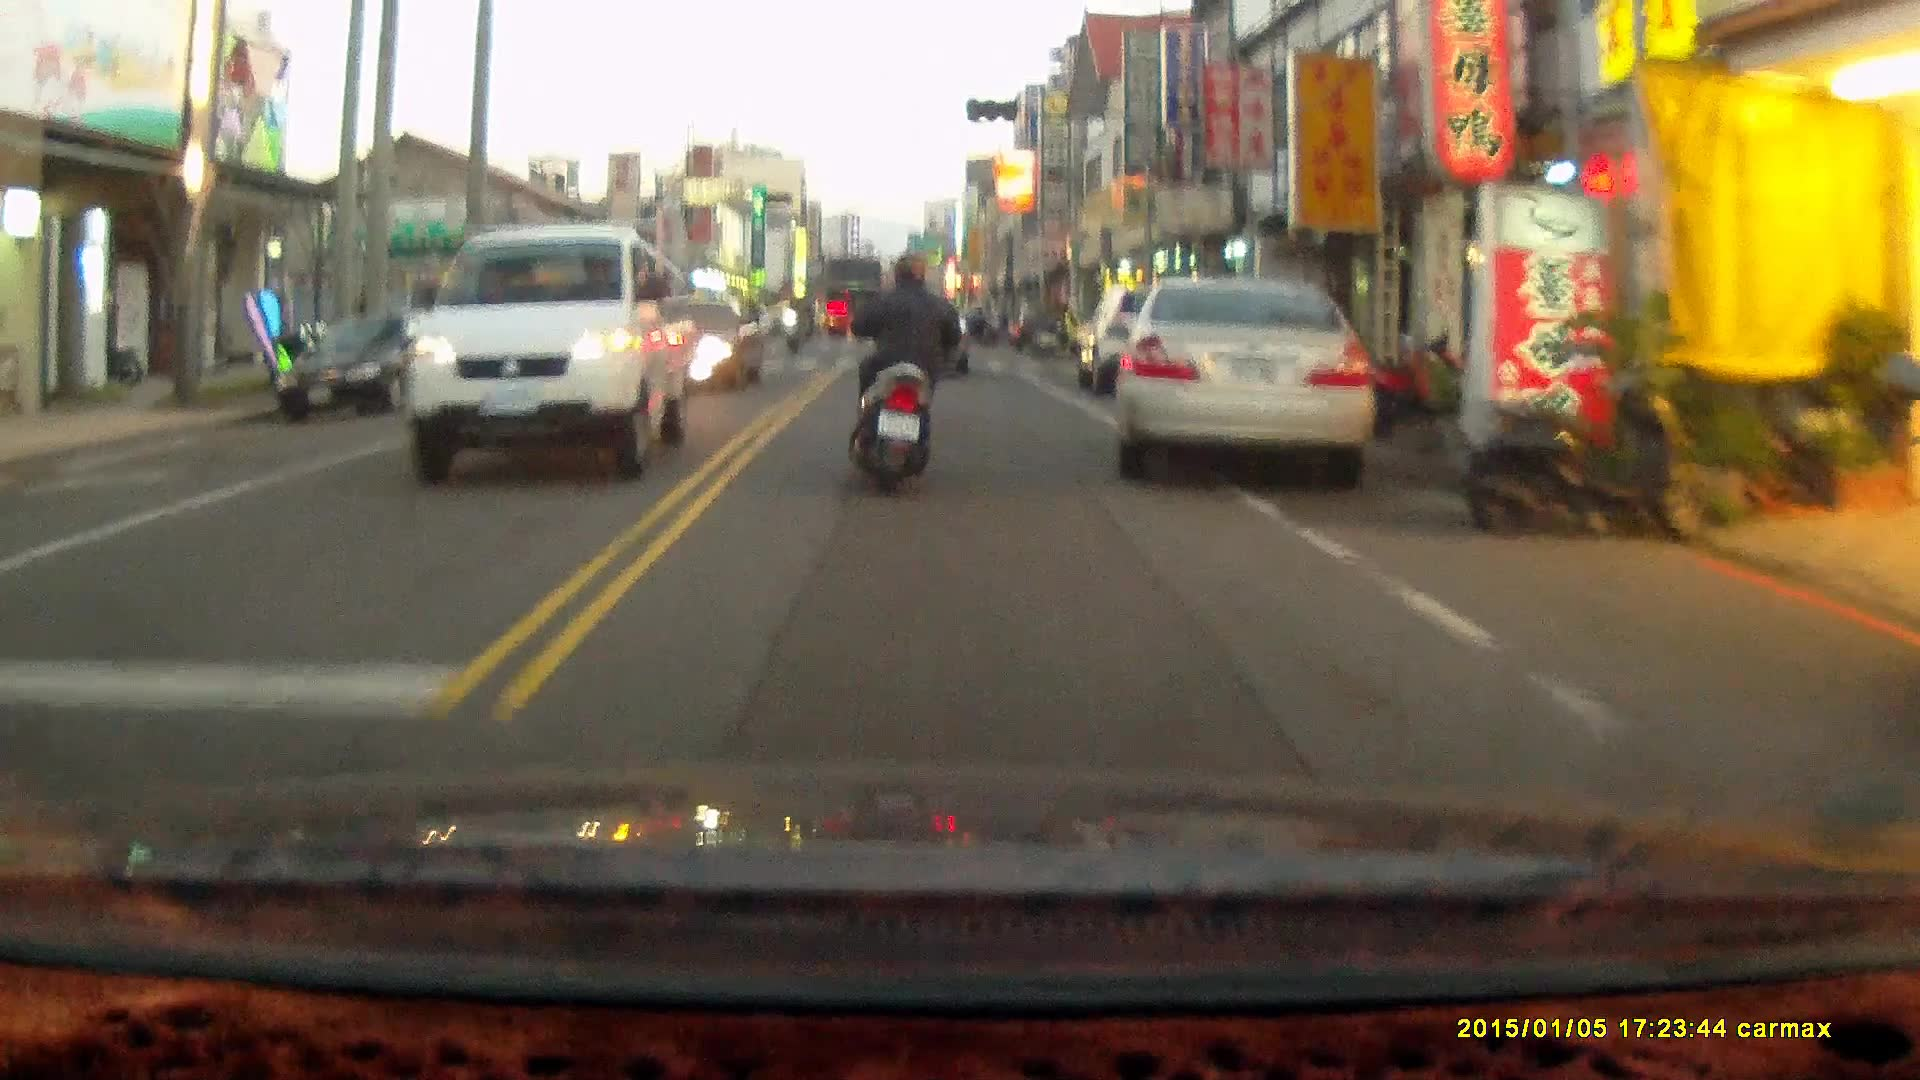pedestrian: (1058, 298, 1081, 366)
rider: (843, 253, 971, 504), (780, 298, 804, 355)
vehicle: (402, 224, 693, 484), (1112, 269, 1382, 478), (276, 308, 462, 416), (821, 251, 889, 334)
